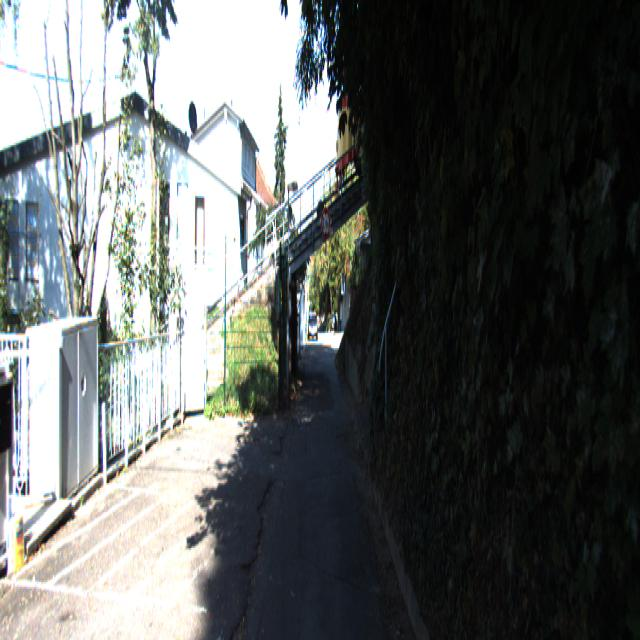Car: (308, 315, 318, 344)
